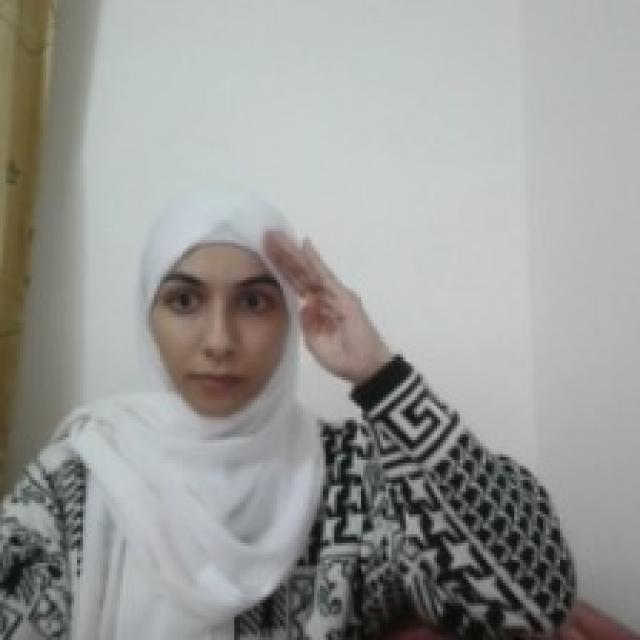Thanks: (256, 221, 383, 383)
